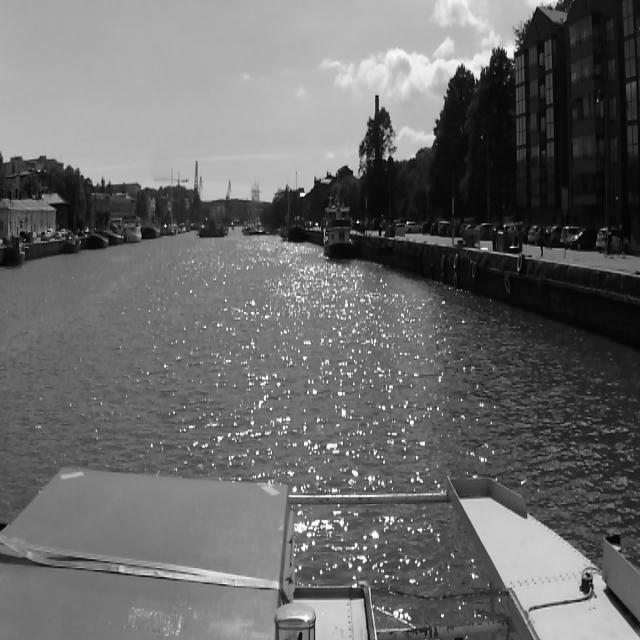ship: (324, 203, 356, 257), (4, 237, 24, 265), (109, 222, 123, 246), (63, 235, 81, 253), (125, 223, 141, 243), (88, 233, 108, 249), (198, 225, 224, 237), (143, 222, 161, 238)
